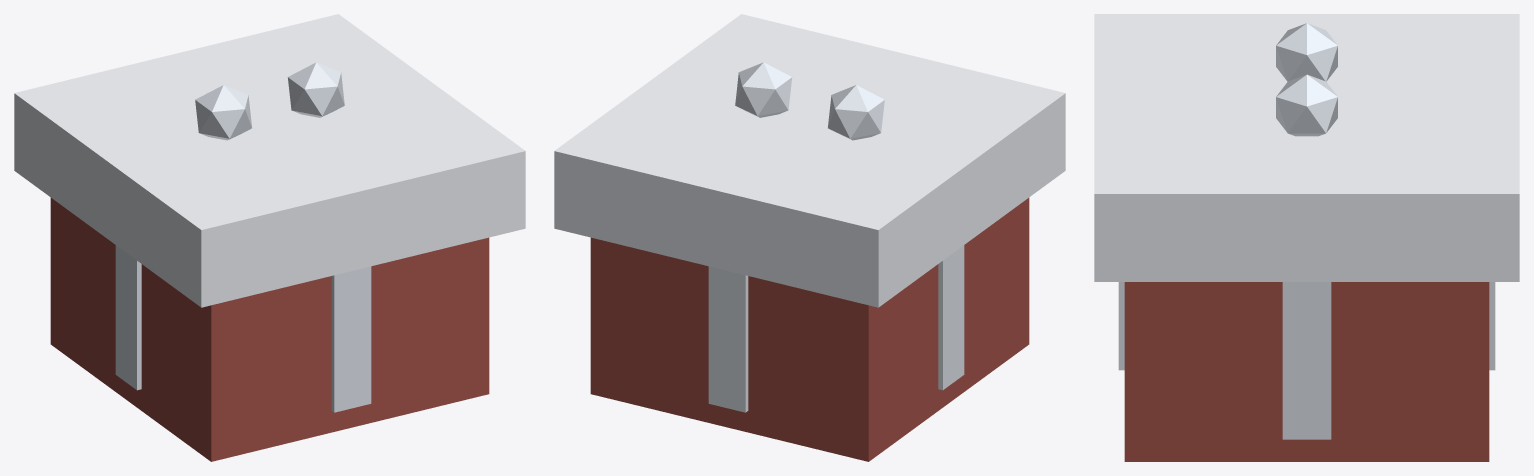
Rendered from gift_box.fbx.
The picture shows the model from 3 angles, left to right: view 1: azimuth 30°, elevation 25°; view 2: azimuth 150°, elevation 25°; view 3: azimuth 270°, elevation 25°; orthographic projection. The views are drawn at different scales.
Visible parts, largest first — view 1: gift_box; view 2: gift_box; view 3: gift_box.
Part boxes in pixels (x1=…): gift_box: x1=14, y1=14, x2=525, y2=461; gift_box: x1=554, y1=14, x2=1065, y2=461; gift_box: x1=1094, y1=14, x2=1519, y2=461.
Bounding box in the file's own units: 180 × 157 × 180.
